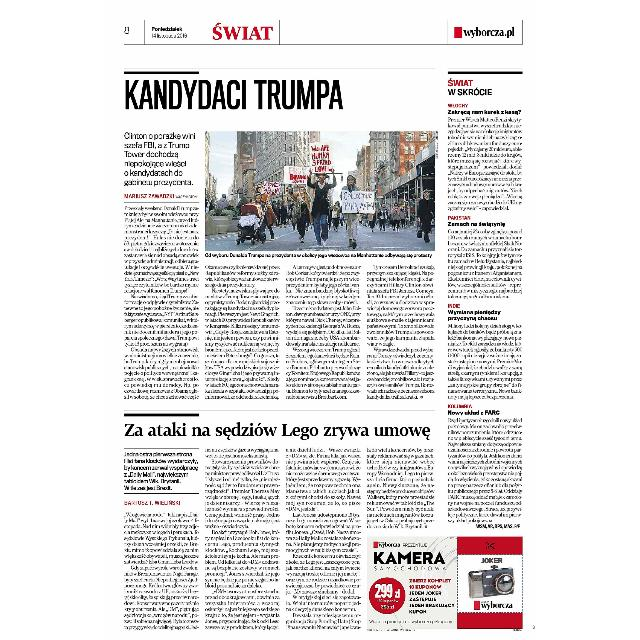article: (122, 70, 438, 402), (120, 411, 438, 634), (447, 69, 528, 531)
